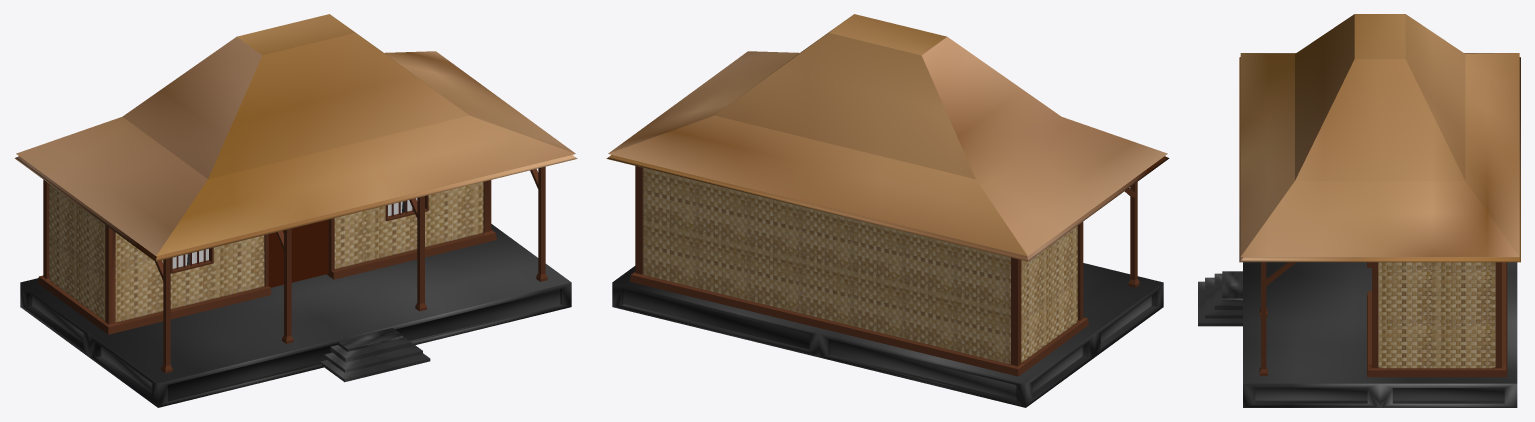
The model's file is Bangunan Bale Daja.fbx.
The picture shows the model from 3 angles, left to right: view 1: azimuth 30°, elevation 25°; view 2: azimuth 150°, elevation 25°; view 3: azimuth 270°, elevation 25°; orthographic projection.
Visible parts, largest first — view 1: Atap Bale Daja, Pondasi Bale Daja, Tiang Bale Daja, Tangga Bale Daja, Pintu Bale Daja, Tirai Bale Daja; view 2: Atap Bale Daja, Tiang Bale Daja, Pondasi Bale Daja; view 3: Atap Bale Daja, Pondasi Bale Daja, Tiang Bale Daja, Tangga Bale Daja.
Boxes of the visible parts, <box> form: Atap Bale Daja: <box>14,14,577,261</box>; Pondasi Bale Daja: <box>20,202,571,407</box>; Tiang Bale Daja: <box>38,166,547,373</box>; Tangga Bale Daja: <box>320,328,430,382</box>; Pintu Bale Daja: <box>268,219,328,287</box>; Tirai Bale Daja: <box>172,198,417,268</box>; Atap Bale Daja: <box>606,14,1169,261</box>; Tiang Bale Daja: <box>630,166,1139,376</box>; Pondasi Bale Daja: <box>612,263,1163,407</box>; Atap Bale Daja: <box>1239,14,1520,262</box>; Pondasi Bale Daja: <box>1243,262,1517,407</box>; Tiang Bale Daja: <box>1259,262,1507,377</box>; Tangga Bale Daja: <box>1198,271,1242,326</box>.
Bounding box in the file's own units: 17.93 × 11.06 × 11.94.
